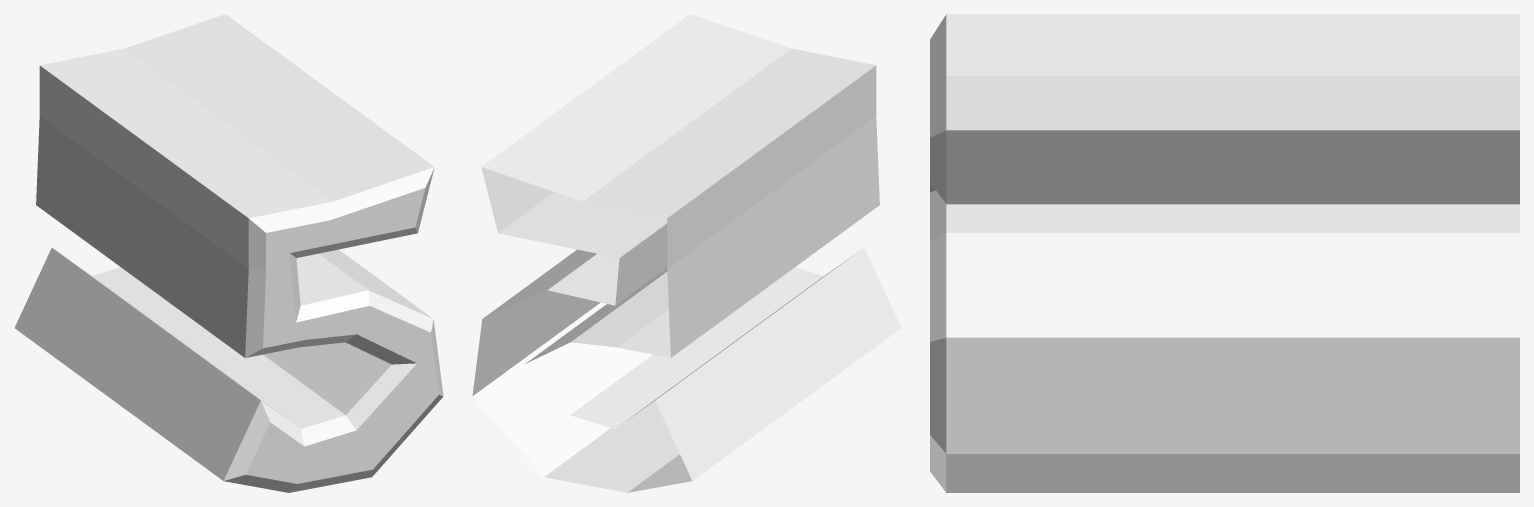
Rendered from Number05.fbx.
The picture shows the model from 3 angles, left to right: view 1: azimuth 30°, elevation 25°; view 2: azimuth 150°, elevation 25°; view 3: azimuth 270°, elevation 25°; orthographic projection. The views are drawn at different scales.
Visible parts, largest first — view 1: Number05_Model; view 2: Number05_Model; view 3: Number05_Model.
Boxes of the visible parts, x1,y1,x2,y2 form: Number05_Model: (14,14,443,492); Number05_Model: (472,14,901,492); Number05_Model: (930,14,1519,492).
Bounding box in the file's own units: 87.1 × 112 × 147.
Materials: 1 (1 with a texture image).
